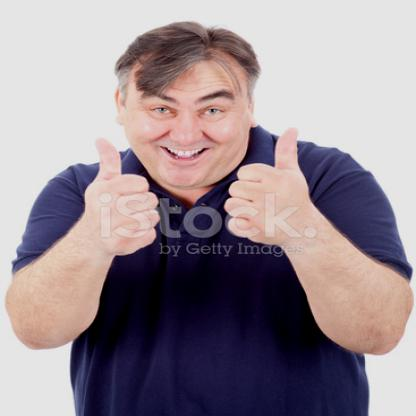Thumbs up: (223, 119, 315, 248), (76, 132, 159, 258)
